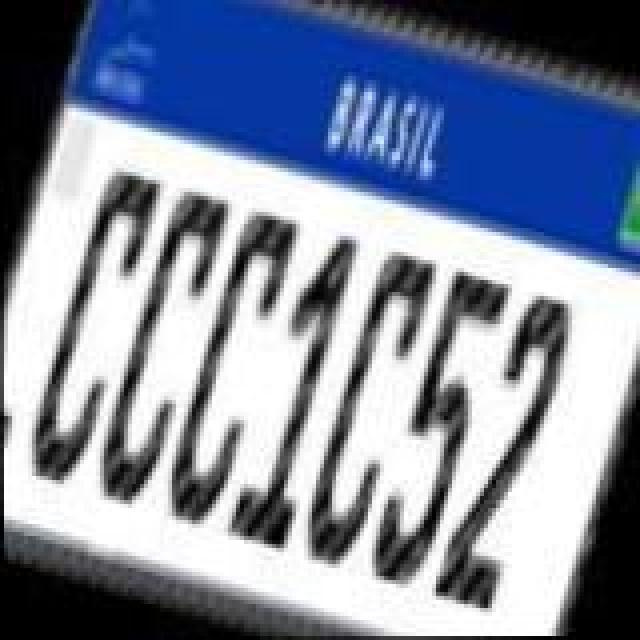1: (216, 220, 376, 560)
2: (424, 278, 580, 618)
5: (356, 256, 512, 596)
C: (288, 238, 444, 578), (82, 178, 238, 514), (146, 194, 302, 530), (12, 164, 168, 492)
